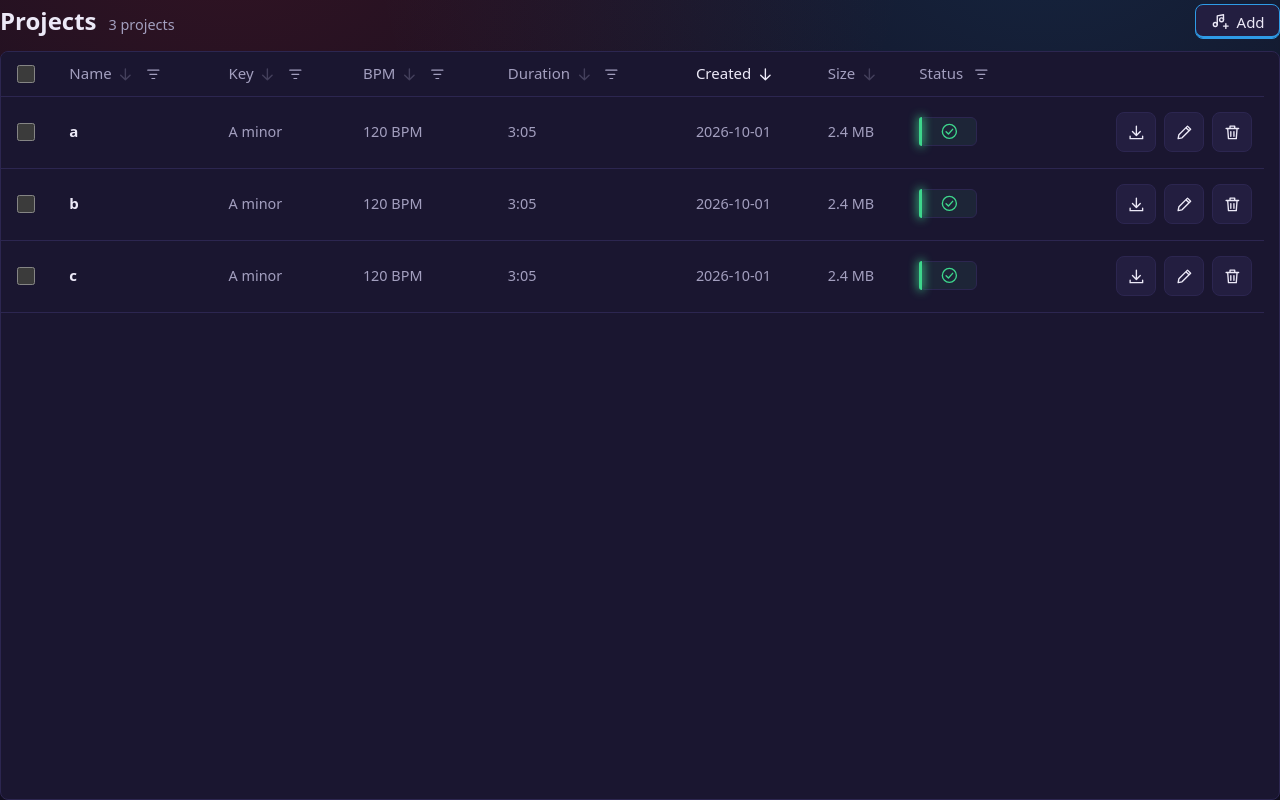
Test: Bulk delete under a refusing server › stops at the first 401 and reports the rest
The image size is (1280, 800).
Expected: the link "a" is shown, x1=69 y1=121 x2=78 y2=141
Click the checkbox named "Select all loaded". click: (26, 74)
box: x1=17 y1=65 x2=35 y2=83
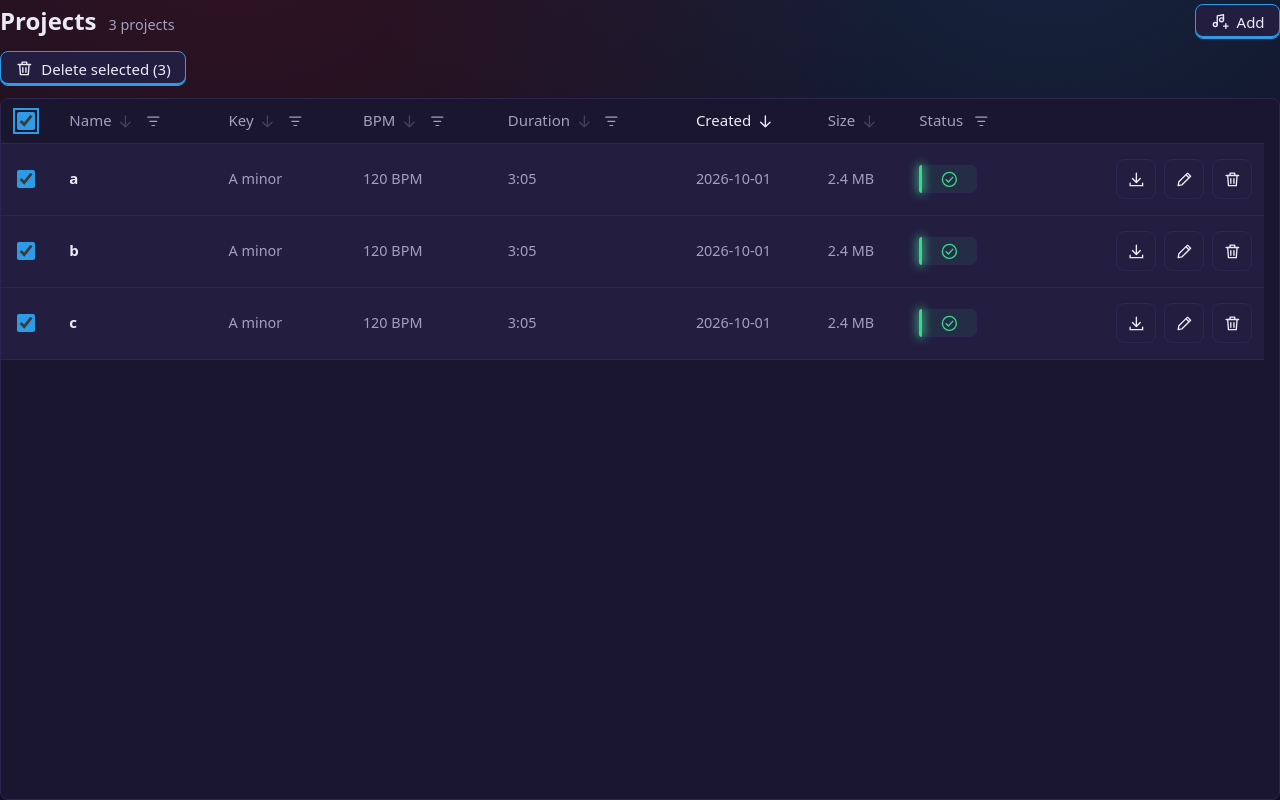
Click the button "Delete selected (3)". click: (93, 69)
box: x1=0 y1=51 x2=186 y2=86
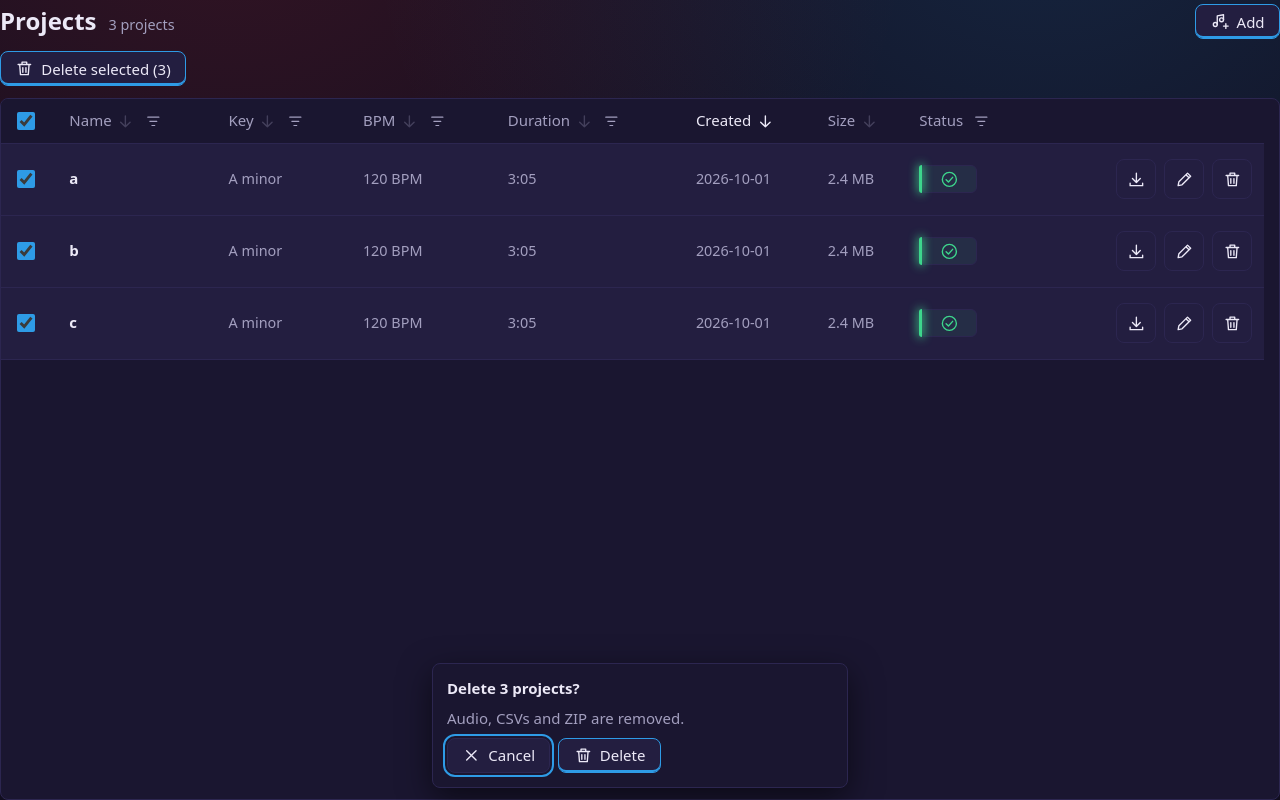
Click the button "Delete". click: (610, 755)
box: x1=558 y1=738 x2=661 y2=773
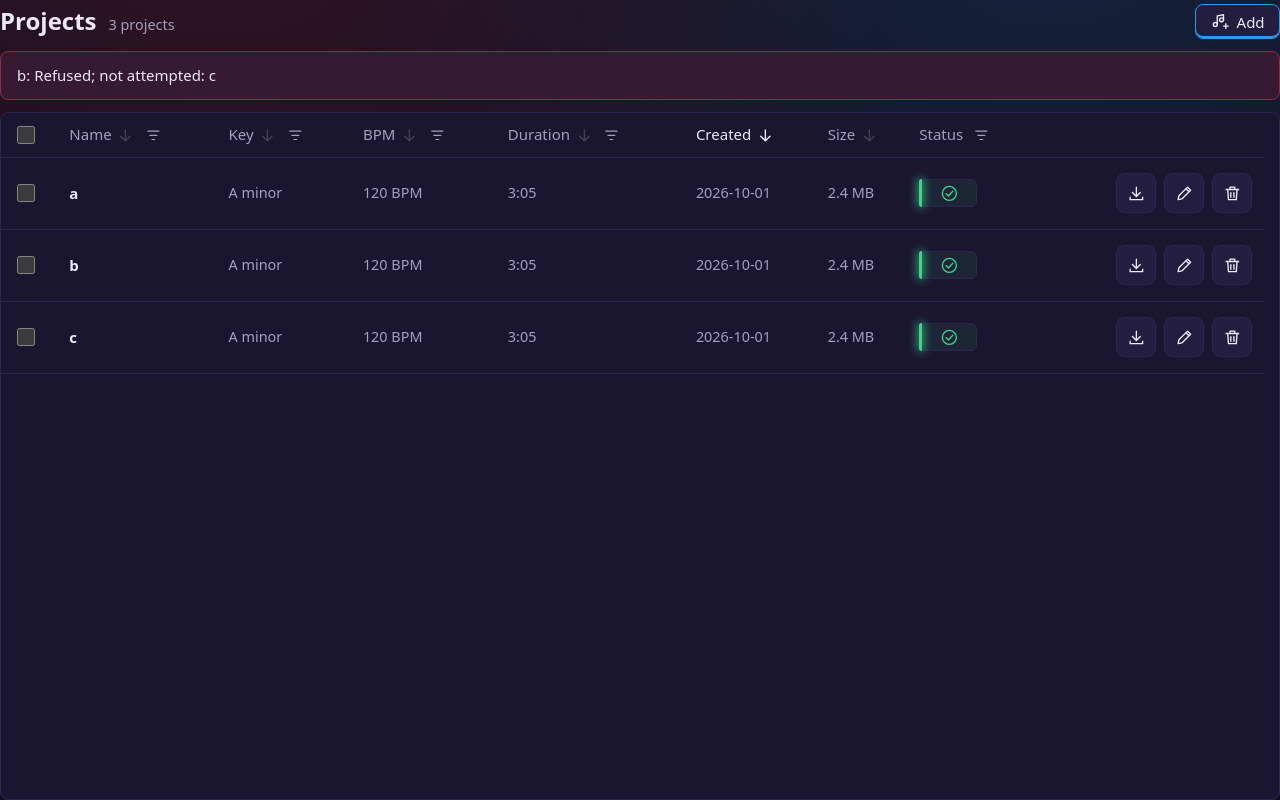
Now the message "b: Refused; not attempted: c" is shown, box x1=0 y1=51 x2=1279 y2=100
